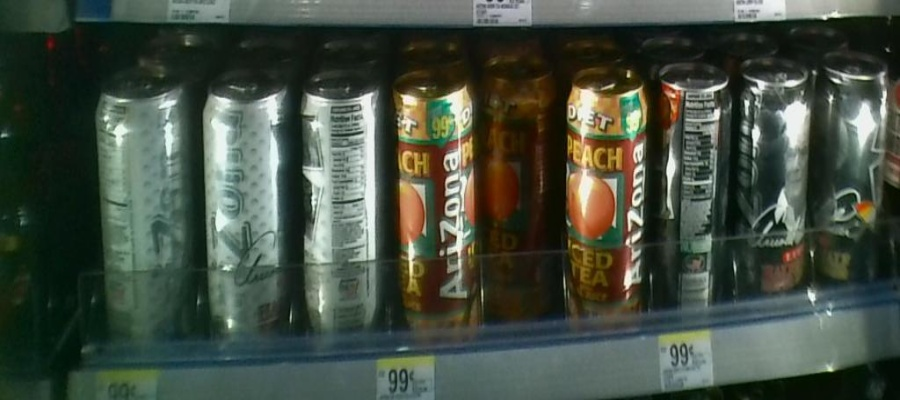bottle: (86, 66, 197, 357), (199, 59, 294, 361), (385, 63, 479, 347), (299, 66, 385, 352), (564, 64, 652, 332), (655, 52, 734, 328), (737, 49, 813, 318), (482, 58, 557, 326), (817, 44, 889, 306)
